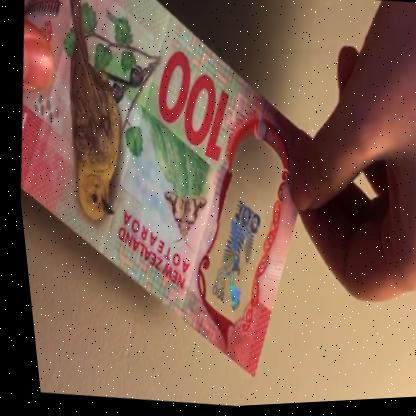100B: (192, 180, 274, 322)
